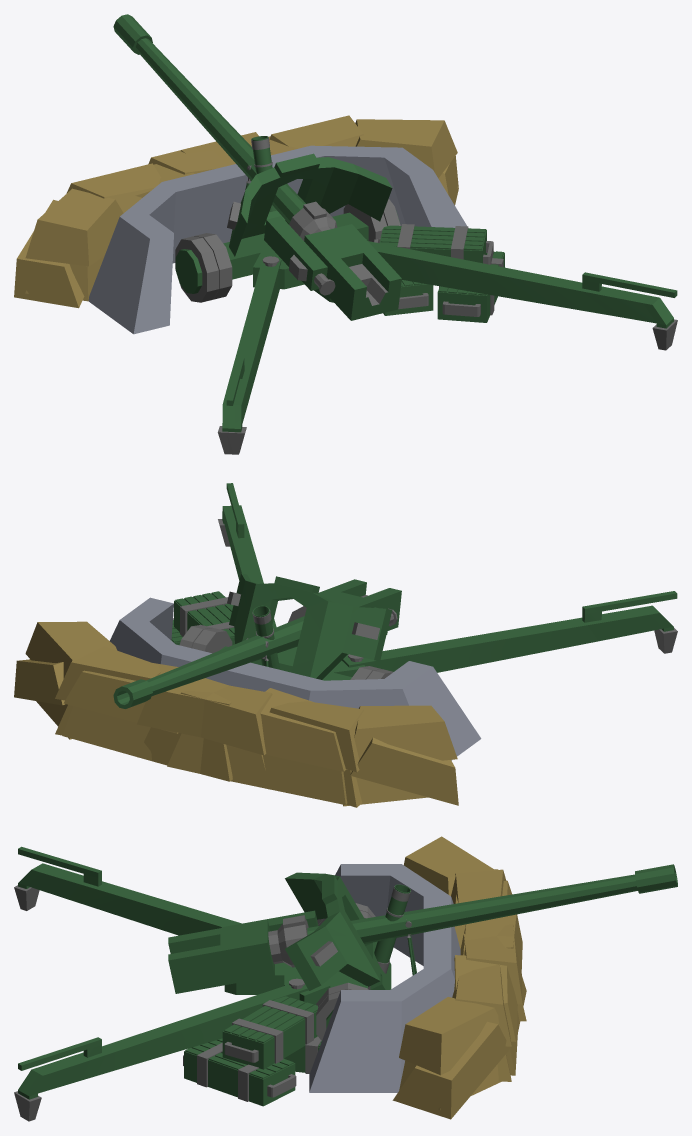
The model's file is mortars_tiers_forest.fbx.
The picture shows the model from 3 angles, top to bottom: view 1: azimuth 30°, elevation 25°; view 2: azimuth 150°, elevation 25°; view 3: azimuth 270°, elevation 25°; orthographic projection.
Visible parts, largest first — view 1: mortar_t3, mortar_dot_t2, mortar_dot_t3, mortar_dot_t1, mortar_t2, mortar_t1; view 2: mortar_t3, mortar_dot_t3, mortar_dot_t1, mortar_dot_t2, mortar_t2, mortar_t1; view 3: mortar_t3, mortar_dot_t2, mortar_dot_t3, mortar_t2, mortar_dot_t1, mortar_t1.
Boxes of the visible parts, x1,y1,x2,y2 form: mortar_t3: (113,14,677,454); mortar_dot_t2: (88,145,466,334); mortar_dot_t3: (14,115,458,308); mortar_dot_t1: (17,119,457,265); mortar_t2: (374,224,504,322); mortar_t1: (245,136,276,212); mortar_t3: (113,483,677,708); mortar_dot_t3: (14,646,457,806); mortar_dot_t1: (25,621,458,807); mortar_dot_t2: (110,597,481,760); mortar_t2: (171,591,234,645); mortar_t1: (246,605,279,669); mortar_t3: (14,846,677,1121); mortar_dot_t2: (309,864,460,1092); mortar_dot_t3: (392,836,526,1119); mortar_t2: (183,996,321,1106); mortar_dot_t1: (399,869,526,1109); mortar_t1: (368,884,416,989).
Bounding box in the file's own units: 635 × 206 × 796.
